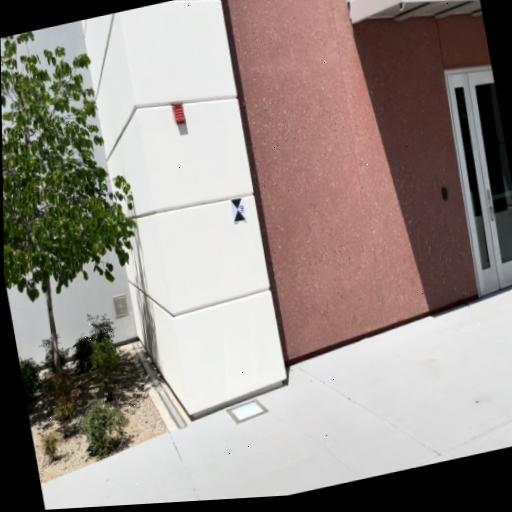target9: (230, 197, 246, 221)
